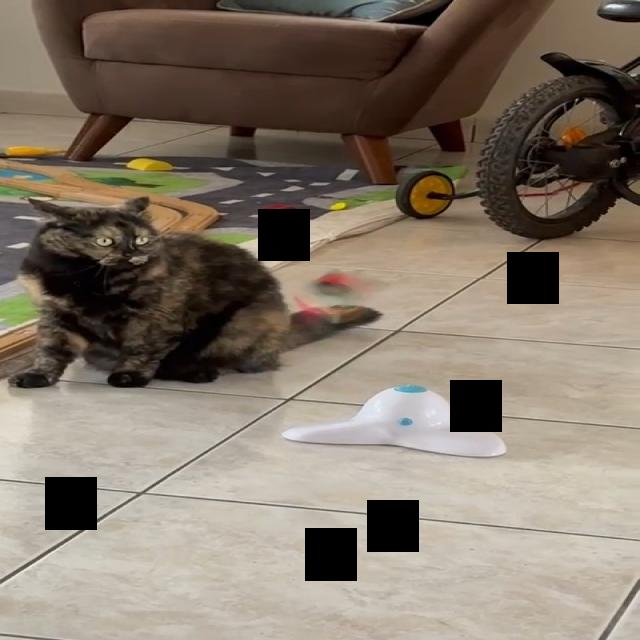authorized: (8, 194, 383, 388)
